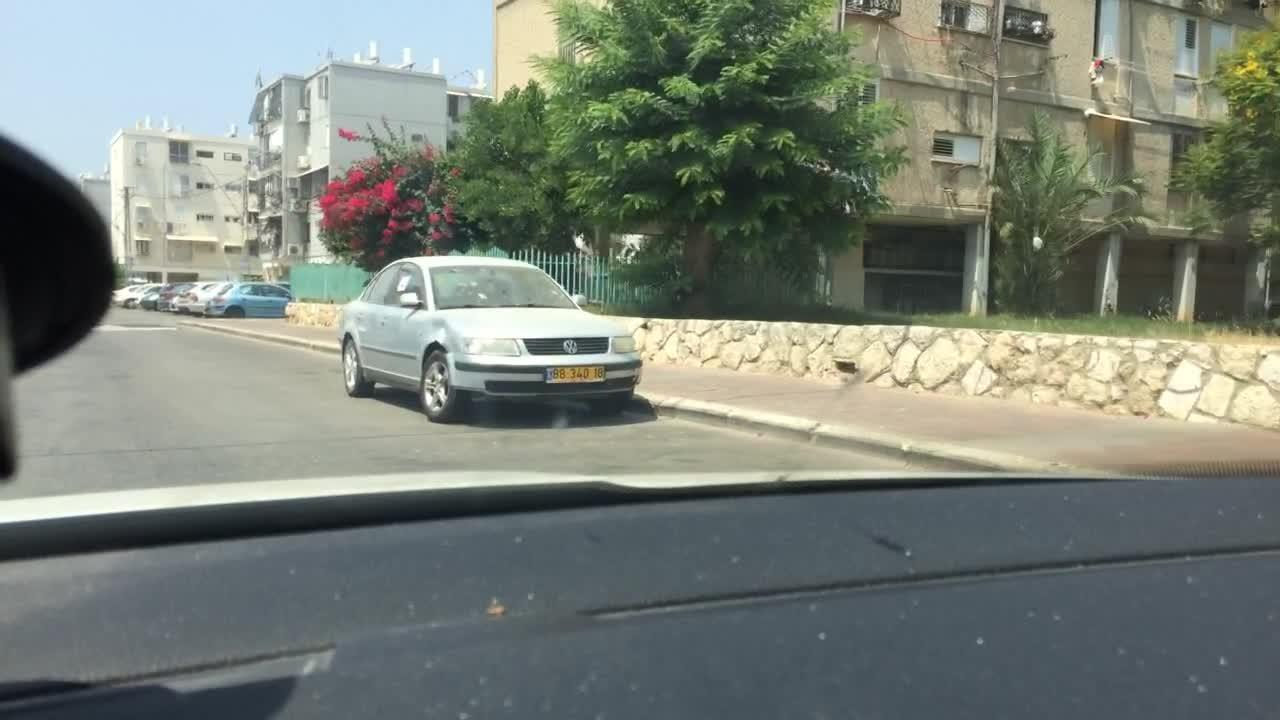Volkswagen: (561, 336, 589, 361)
